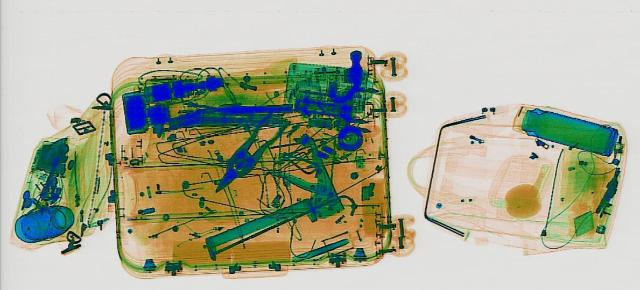Pliers: (200, 108, 298, 192)
